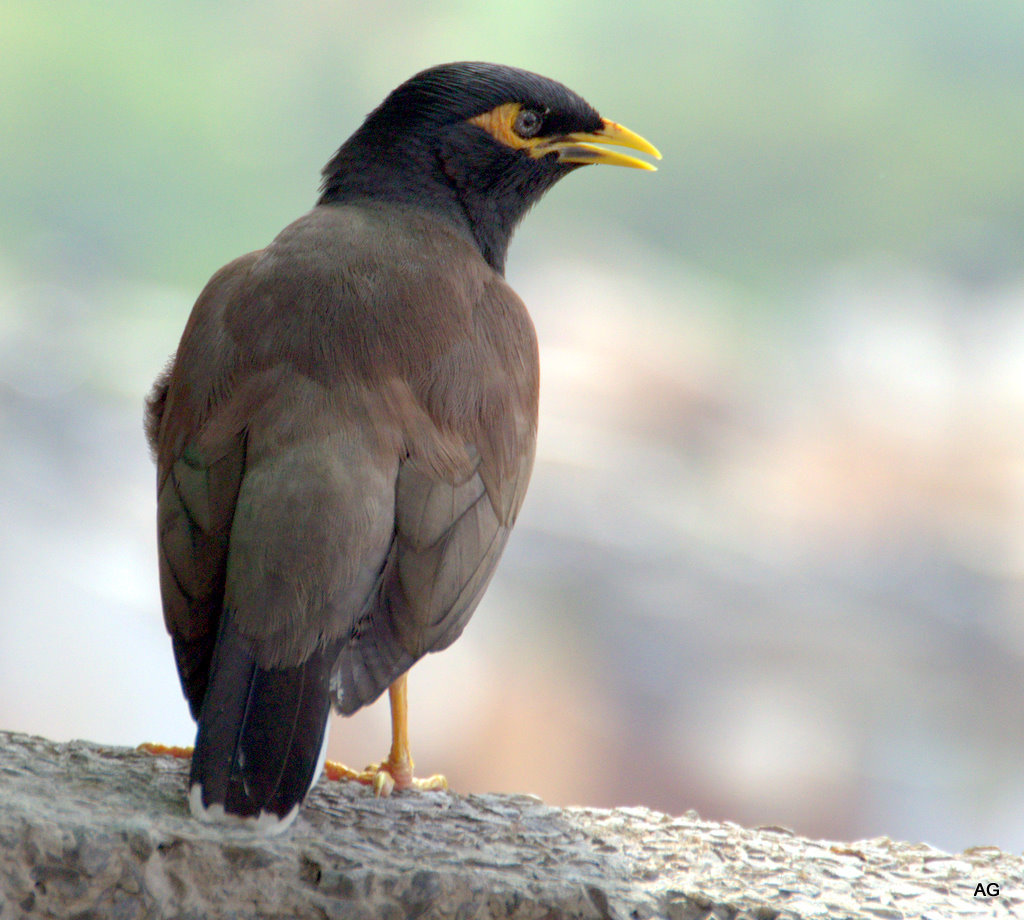Bird: (144, 60, 663, 839)
